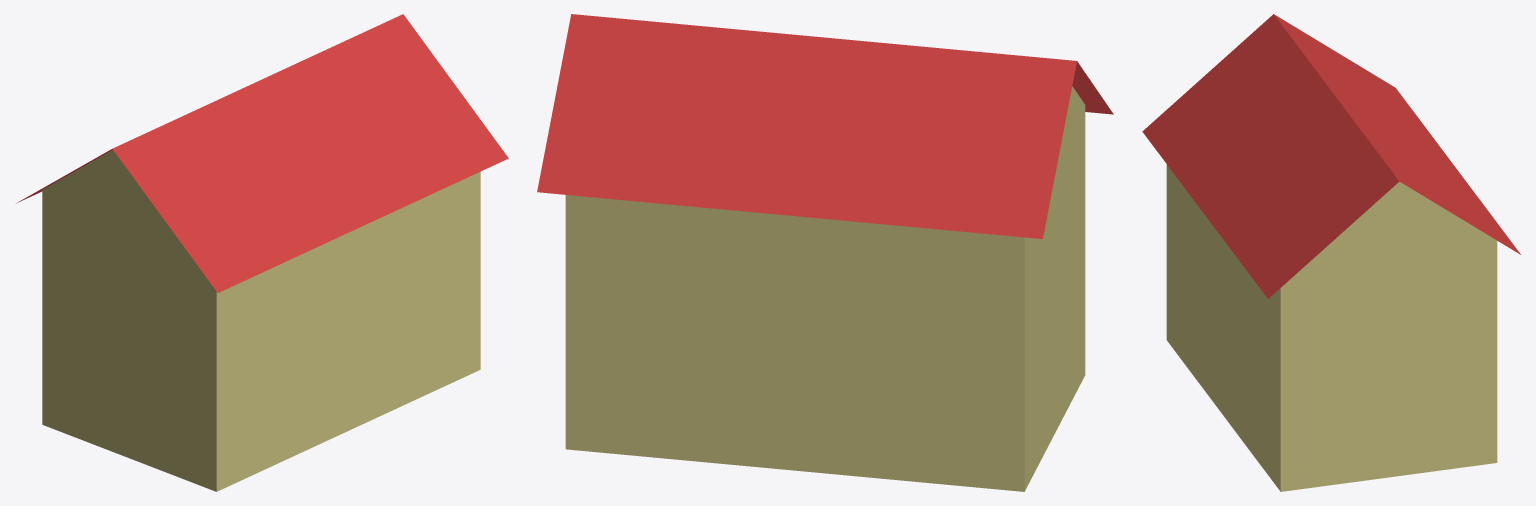
3 views of the same model, side by side, from view 1: azimuth 30°, elevation 25°; view 2: azimuth 150°, elevation 25°; view 3: azimuth 270°, elevation 25° (orthographic). The views are drawn at different scales.
Parts seen in each view (by area): view 1: group_5, group_3, group_4; view 2: group_5, group_3, group_4; view 3: group_5, group_3, group_4.
Boxes of the visible parts, bbox=[...] form: group_5: bbox=[42, 150, 480, 491]; group_3: bbox=[16, 14, 480, 291]; group_4: bbox=[92, 15, 508, 292]; group_5: bbox=[565, 86, 1085, 491]; group_3: bbox=[537, 15, 1113, 235]; group_4: bbox=[538, 14, 1076, 238]; group_5: bbox=[1166, 164, 1497, 491]; group_3: bbox=[1153, 14, 1520, 291]; group_4: bbox=[1142, 14, 1520, 298].
Size of the model in its own units: 24.72 by 19.66 by 17.32.
